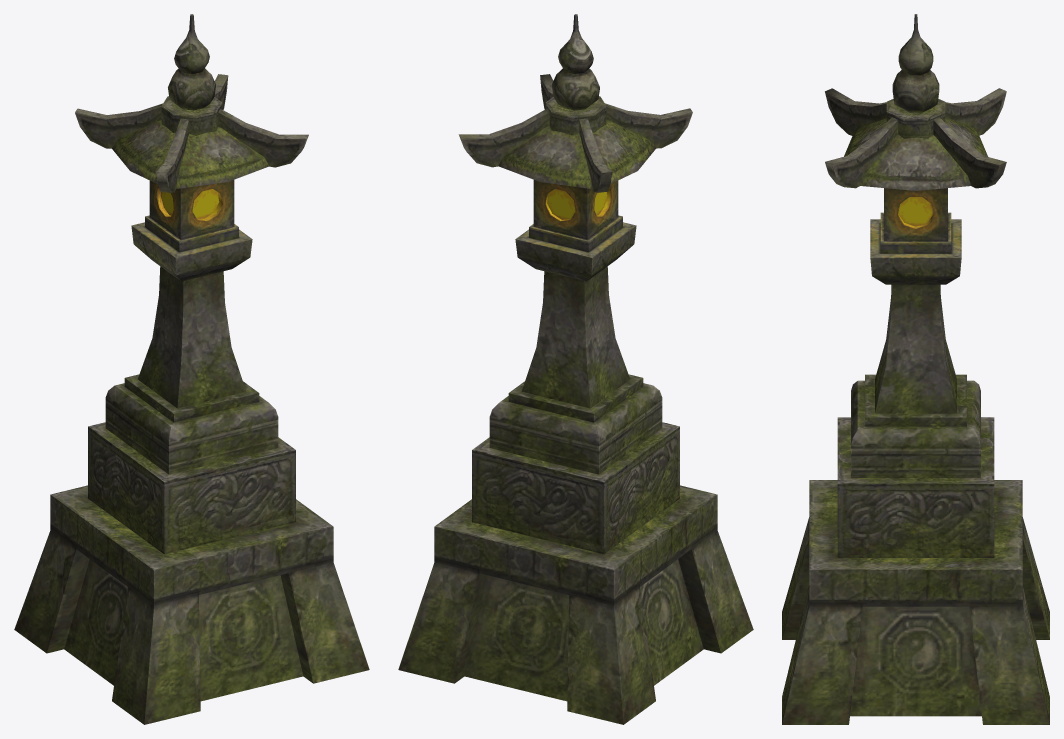
File: 4009_Item_dengzuo_2.FBX
The picture shows the model from 3 angles, left to right: view 1: azimuth 30°, elevation 25°; view 2: azimuth 150°, elevation 25°; view 3: azimuth 270°, elevation 25°; orthographic projection. The views are drawn at different scales.
Parts seen in each view (by area): view 1: 4009_Item_dengzuo_2; view 2: 4009_Item_dengzuo_2; view 3: 4009_Item_dengzuo_2.
Boxes of the visible parts, x1=… form: 4009_Item_dengzuo_2: x1=14, y1=14, x2=369, y2=724; 4009_Item_dengzuo_2: x1=398, y1=14, x2=753, y2=724; 4009_Item_dengzuo_2: x1=782, y1=14, x2=1049, y2=724.
Bounding box in the file's own units: 118 × 317 × 118.
